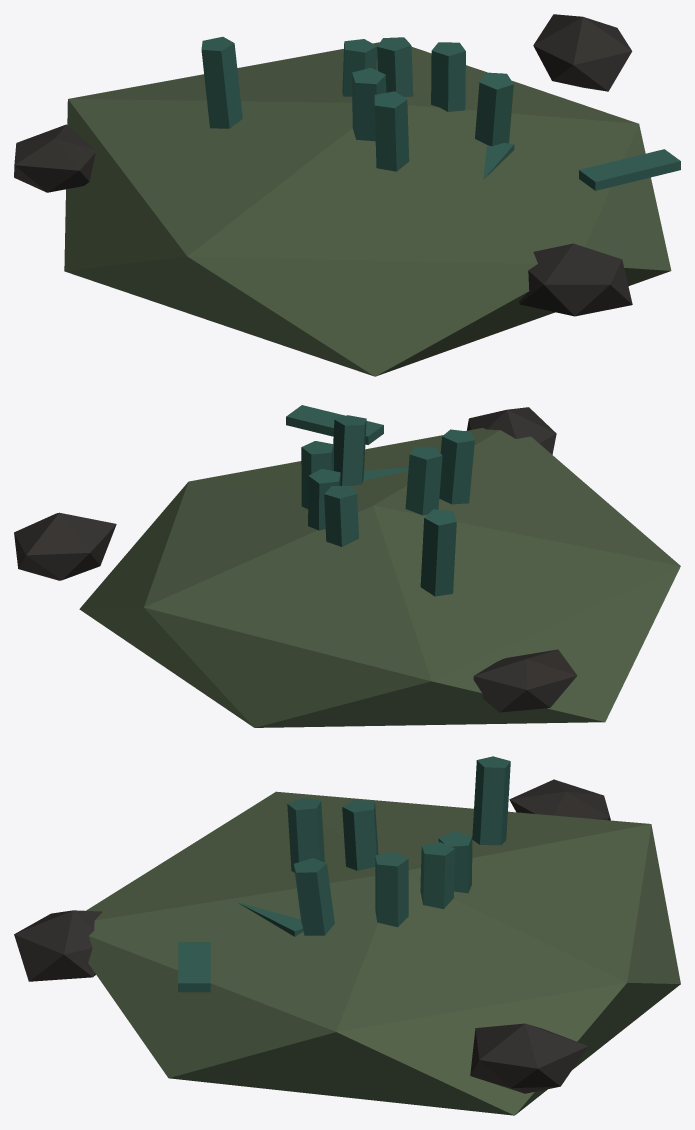
Rendered from ventbloom_patch_picked.glb.
3 views of the same model, one above another, from view 1: azimuth 30°, elevation 25°; view 2: azimuth 150°, elevation 25°; view 3: azimuth 270°, elevation 25° (orthographic). The views are drawn at different scales.
Visible parts, largest first — view 1: NODE_Ventbloom_Picked_Mesh; view 2: NODE_Ventbloom_Picked_Mesh; view 3: NODE_Ventbloom_Picked_Mesh.
Part boxes in pixels (<box>): NODE_Ventbloom_Picked_Mesh: <box>14,14,680,376</box>; NODE_Ventbloom_Picked_Mesh: <box>14,405,680,727</box>; NODE_Ventbloom_Picked_Mesh: <box>14,756,680,1115</box>.
Bounding box in the file's own units: 0.8344 × 0.2925 × 0.8182.
